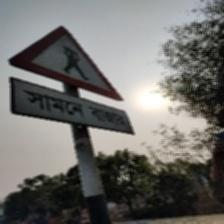Market-in-front: (7, 24, 132, 136)
